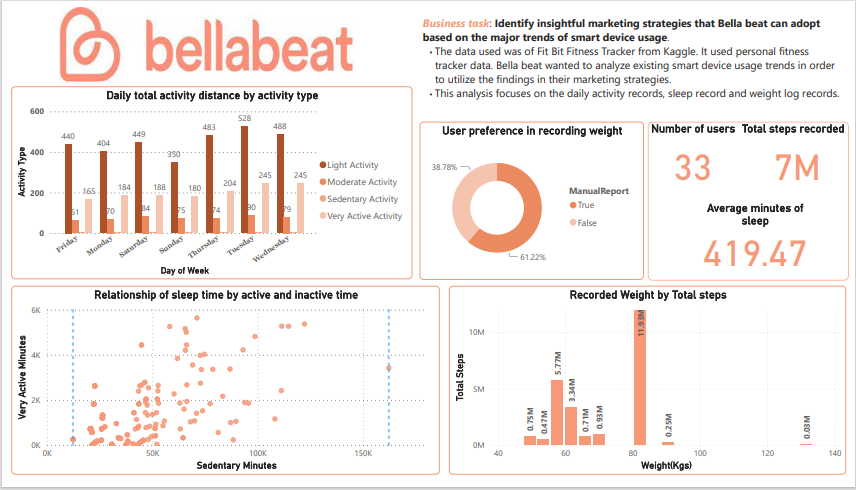

Layout of this report page (visuals, bound fields, positions):
{"tool":"powerbi","page":{"name":"Page 1","canvas":[1280,720],"ordinal":0},"visuals":[{"type":"image","box":[0,0,614.9,123.8],"z":0},{"type":"clusteredColumnChart","title":"Daily total activity distance by activity type","fields":{"Category":["daily_activity.Day of week"],"Y":["Sum(daily_activity.LightActiveDistance)","Sum(daily_activity.ModeratelyActiveDistance)","Sum(daily_activity.SedentaryActiveDistance)","Sum(daily_activity.VeryActiveDistance)"]},"box":[14.2,123.3,600.9,289.1],"z":1000},{"type":"scatterChart","title":"Relationship of sleep time by active and inactive time","fields":{"Category":["daily_sleep_activity.sleep_day.TotalMinutesAsleep"],"X":["Sum(daily_sleep_activity.SedentaryMinutes)"],"Y":["Sum(daily_sleep_activity.VeryActiveMinutes)"]},"box":[14.2,422.4,642,283.5],"z":2000},{"type":"donutChart","title":"User preference in recording weight","fields":{"Y":["CountNonNull(daily_weight_log.weight_log.IsManualReport)"],"Category":["daily_weight_log.weight_log.IsManualReport"]},"box":[626.5,175.7,335.9,236.7],"z":3000},{"type":"columnChart","title":"Recorded Weight by Total steps","fields":{"Y":["Sum(daily_weight_log.TotalSteps)"],"Category":["daily_weight_log.weight_log.WeightKg (bins)"]},"box":[670.4,422.4,595.3,283.5],"z":4000},{"type":"card","title":"Number of users","fields":{"Values":["Count(daily_activity.Id)"]},"box":[968,175.7,136.1,104.9],"z":4001},{"type":"card","title":"Total steps recorded","fields":{"Values":["Sum(daily_activity.TotalSteps)"]},"box":[1104.1,175.7,175.7,104.9],"z":4003},{"type":"card","title":"Average minutes of sleep","fields":{"Values":["Avg(sleep_day.TotalMinutesAsleep)"]},"box":[1038.9,294.8,180,104.9],"z":4005},{"type":"textbox","box":[626.4,11.5,639.4,146.9],"z":4006},{"type":"shape","box":[967.7,175.7,301,237.6],"z":4007}]}

Visuals, with their boxes in screenshot pixels (x1, y1, x2, y2), scaled from the page's 1280x720 canvas onto the 856x490 screenshot:
image: 0,0,411,84
"Daily total activity distance by activity type" clusteredColumnChart: 9,84,411,281
"Relationship of sleep time by active and inactive time" scatterChart: 9,287,439,480
"User preference in recording weight" donutChart: 419,120,644,281
"Recorded Weight by Total steps" columnChart: 448,287,846,480
"Number of users" card: 647,120,738,191
"Total steps recorded" card: 738,120,855,191
"Average minutes of sleep" card: 695,201,815,272
textbox: 419,8,847,108
shape: 647,120,848,281
